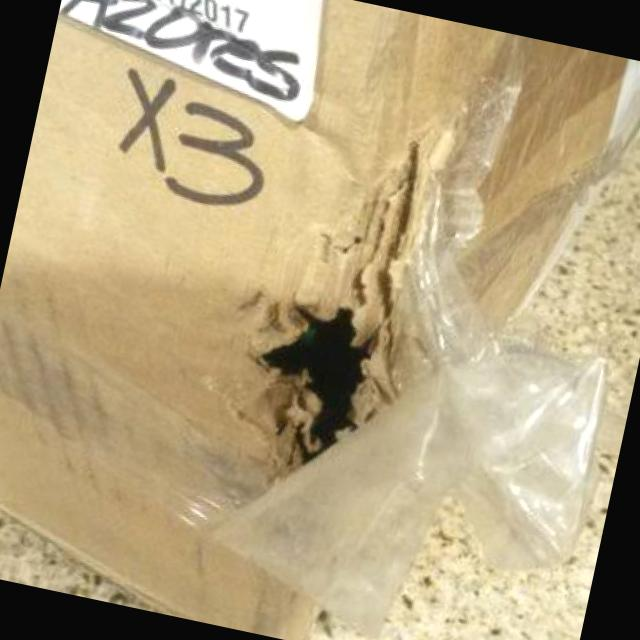package_damage: (170, 118, 516, 561)
